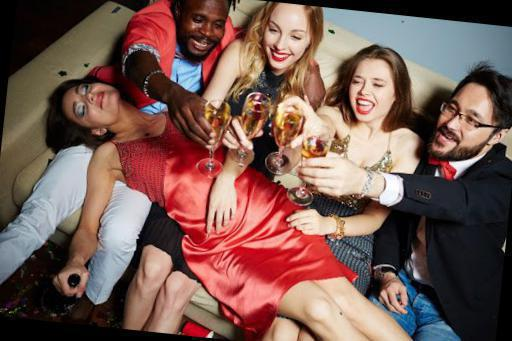Drunk: (435, 79, 494, 162), (349, 56, 394, 126), (260, 5, 307, 71), (183, 2, 227, 61), (62, 82, 115, 116)
